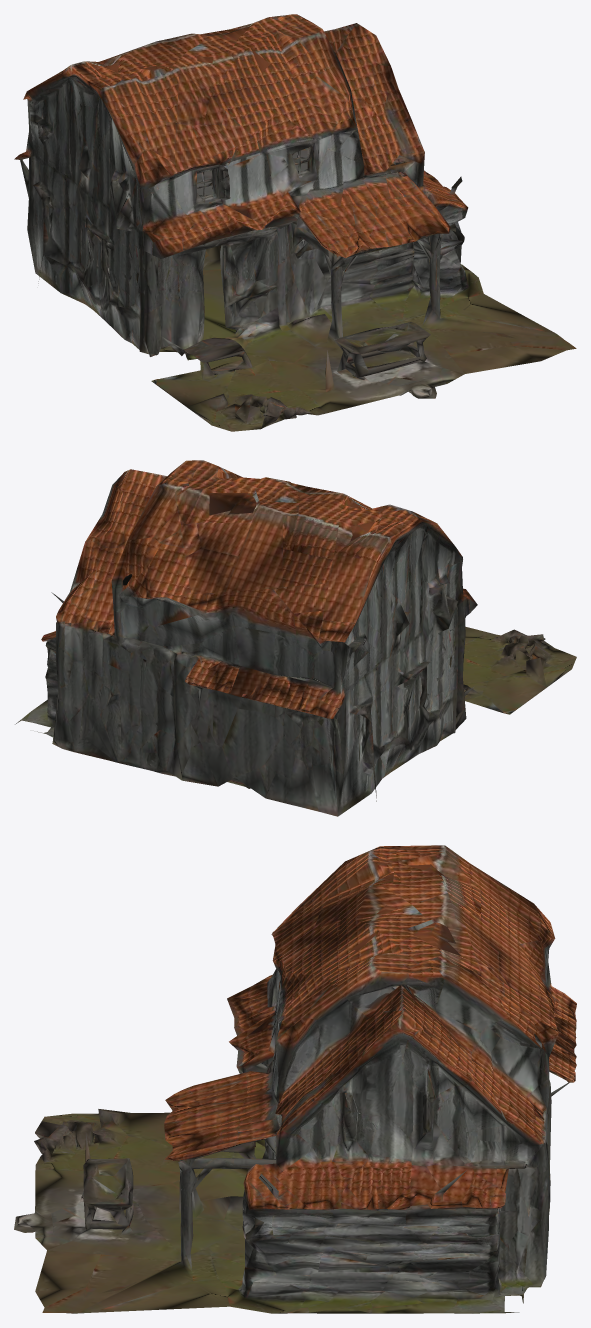
File: schweinezucht.glb
The picture shows the model from 3 angles, top to bottom: view 1: azimuth 30°, elevation 25°; view 2: azimuth 150°, elevation 25°; view 3: azimuth 270°, elevation 25°; orthographic projection. The views are drawn at different scales.
Bounding box in the file's own units: 1.58 × 1.05 × 1.88.
1 material, 1 textured.
